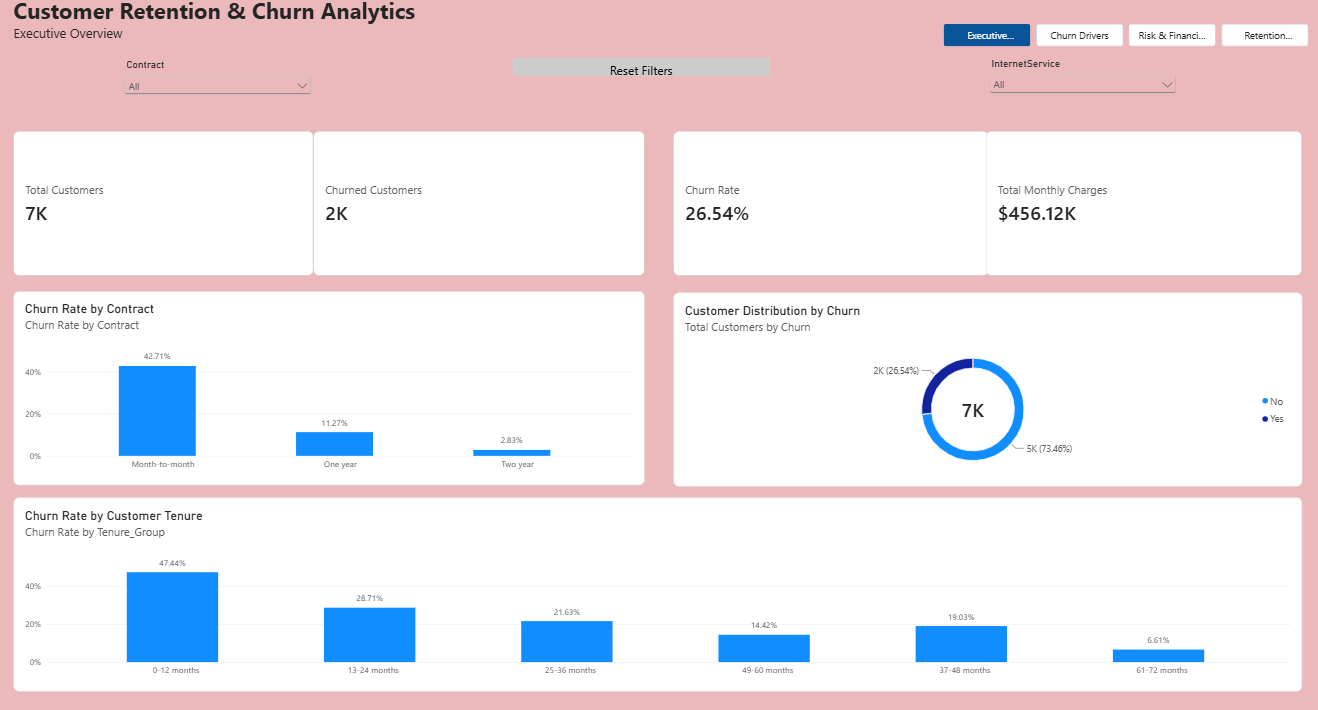

What the dashboard file says about the page in this screenshot:
{"tool":"powerbi","page":{"name":"Executive Overview","canvas":[1920,1080],"ordinal":0},"visuals":[{"type":"textbox","box":[25.3,0,1874.8,117.6],"z":0},{"type":"cardVisual","fields":{"Data":["Customer_Churn.Total Customers"]},"box":[25.3,197.3,434.3,209.9],"z":1000},{"type":"cardVisual","fields":{"Data":["Customer_Churn.Churned Customers"]},"box":[459.7,197.3,479.6,209.9],"z":2000},{"type":"cardVisual","fields":{"Data":["Customer_Churn.Churn Rate"]},"box":[980.8,197.3,456,209.9],"z":3000},{"type":"cardVisual","fields":{"Data":["Customer_Churn.Total Monthly Charges"]},"box":[1433.3,197.3,457.8,209.9],"z":4000},{"type":"clusteredColumnChart","title":"Churn Rate by Contract","fields":{"Category":["Customer_Churn.Contract"],"Y":["Customer_Churn.Churn Rate"]},"box":[25.3,428.9,913.9,280.5],"z":5000},{"type":"donutChart","title":"Customer Distribution by Churn","fields":{"Category":["Customer_Churn.Churn"],"Y":["Customer_Churn.Total Customers"]},"box":[980.8,430.7,910.3,280.5],"z":6000},{"type":"clusteredColumnChart","title":"Churn Rate by Customer Tenure","fields":{"Category":["Customer_Churn.Tenure_Group"],"Y":["Customer_Churn.Churn Rate"]},"box":[25.3,727.5,1865.8,280.5],"z":7000},{"type":"slicer","fields":{"Values":["Customer_Churn.Contract"]},"box":[180.2,92.3,280,280],"z":8000},{"type":"slicer","fields":{"Values":["Customer_Churn.InternetService"]},"box":[1433.1,91.3,280.2,280.2],"z":9000},{"type":"pageNavigator","box":[1372.2,41.5,528.4,33.2],"z":9001},{"type":"actionButton","box":[746.9,90.4,373.5,27.5],"z":9002}]}

Visuals, with their boxes on the page's 1920x1080 design canvas (x1, y1, x2, y2). These are canvas units, not pixel positions in the 1318x710 screenshot, which may show the page scaled, cropped or inside an application window:
textbox: Rect(25, 0, 1900, 118)
cardVisual - Customer_Churn.Total Customers: Rect(25, 197, 460, 407)
cardVisual - Customer_Churn.Churned Customers: Rect(460, 197, 939, 407)
cardVisual - Customer_Churn.Churn Rate: Rect(981, 197, 1437, 407)
cardVisual - Customer_Churn.Total Monthly Charges: Rect(1433, 197, 1891, 407)
"Churn Rate by Contract" clusteredColumnChart: Rect(25, 429, 939, 709)
"Customer Distribution by Churn" donutChart: Rect(981, 431, 1891, 711)
"Churn Rate by Customer Tenure" clusteredColumnChart: Rect(25, 728, 1891, 1008)
slicer - Customer_Churn.Contract: Rect(180, 92, 460, 372)
slicer - Customer_Churn.InternetService: Rect(1433, 91, 1713, 372)
pageNavigator: Rect(1372, 42, 1901, 75)
actionButton: Rect(747, 90, 1120, 118)
